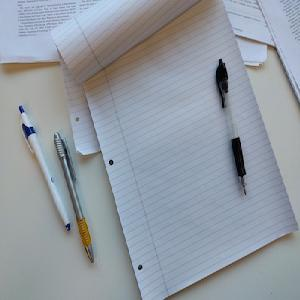pen: (215, 56, 249, 200)
